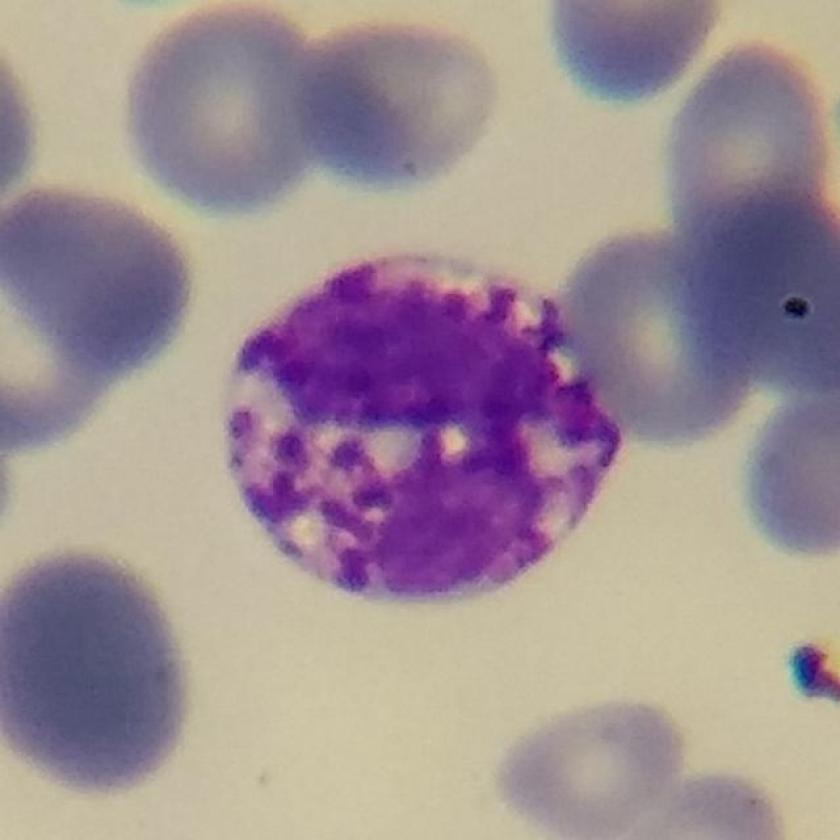basophil: (217, 249, 629, 621)
